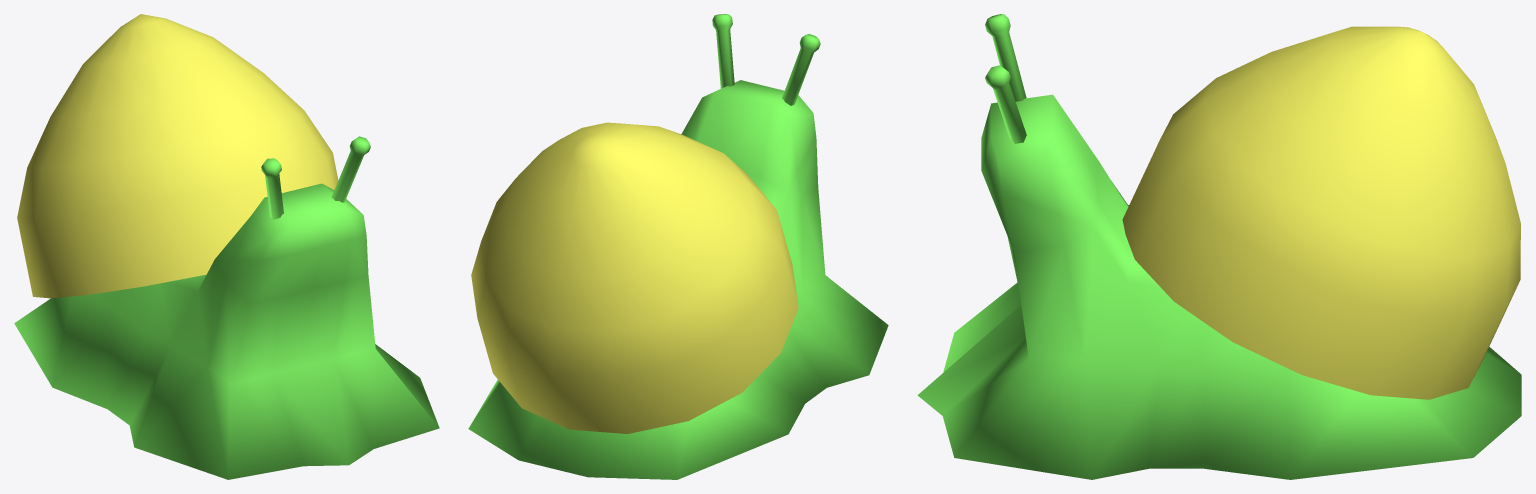
The model's file is quensan_slime.fbx.
The picture shows the model from 3 angles, left to right: view 1: azimuth 30°, elevation 25°; view 2: azimuth 150°, elevation 25°; view 3: azimuth 270°, elevation 25°; orthographic projection. The views are drawn at different scales.
Parts seen in each view (by area): view 1: Cube.001, Cube; view 2: Cube, Cube.001; view 3: Cube, Cube.001.
Boxes of the visible parts, box(x1,y1,x2,y2) form: Cube.001: box(14, 136, 439, 479); Cube: box(17, 14, 338, 298); Cube: box(471, 122, 798, 433); Cube.001: box(468, 14, 888, 479); Cube: box(1122, 26, 1520, 399); Cube.001: box(917, 14, 1521, 479).
Size of the model in its own units: 230 by 230 by 346.
